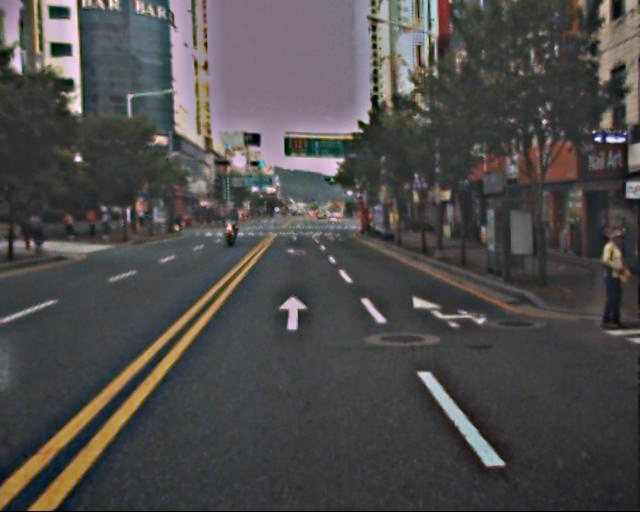person: (585, 224, 634, 331), (29, 209, 113, 249)
